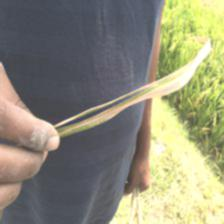2 BacterialBlight: (67, 72, 196, 117)
